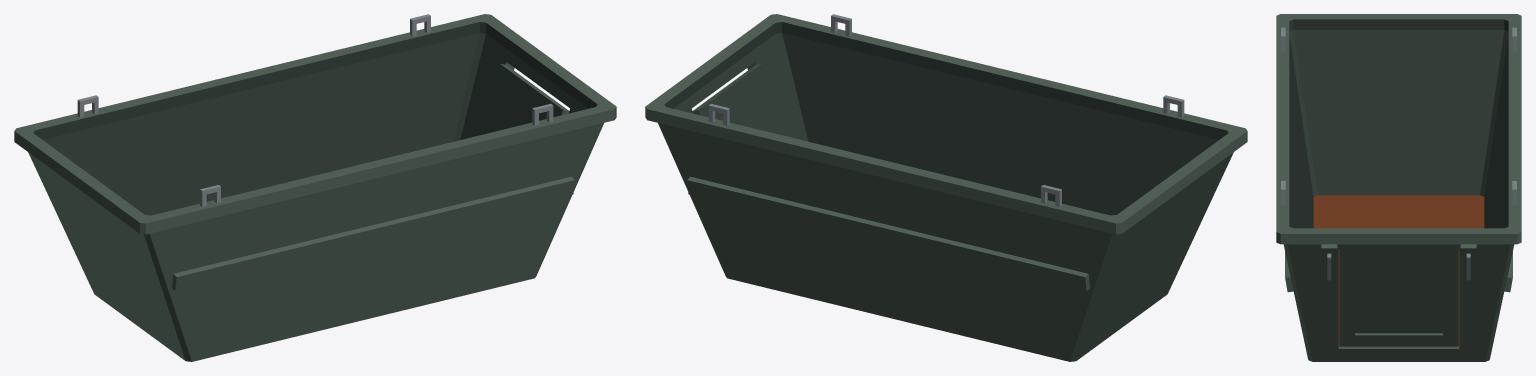
File: builder-s-skip-191d35.glb
3 views of the same model, side by side, from view 1: azimuth 30°, elevation 25°; view 2: azimuth 150°, elevation 25°; view 3: azimuth 270°, elevation 25° (orthographic). The views are drawn at different scales.
Parts seen in each view (by area): view 1: skip-body, door-mesh; view 2: skip-body, door-mesh; view 3: skip-body, door-mesh, pins-mesh.
Boxes of the visible parts, <box> form: skip-body: <box>14,14,616,361</box>; door-mesh: <box>476,64,569,135</box>; skip-body: <box>645,14,1247,361</box>; door-mesh: <box>692,64,785,135</box>; skip-body: <box>1276,14,1521,361</box>; door-mesh: <box>1339,249,1458,346</box>; pins-mesh: <box>1327,253,1470,280</box>.
Bounding box in the file's own units: 3.6 × 1.32 × 1.7.
